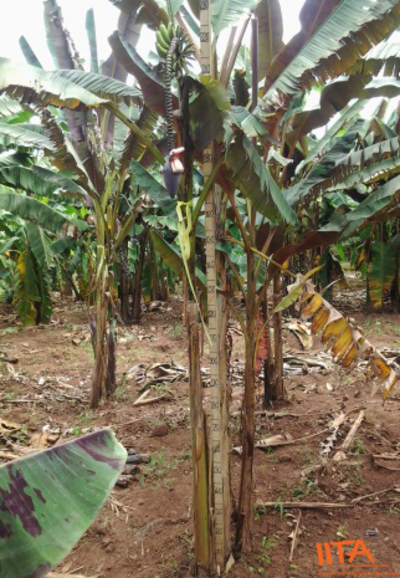bananaHand: (153, 22, 196, 78)
